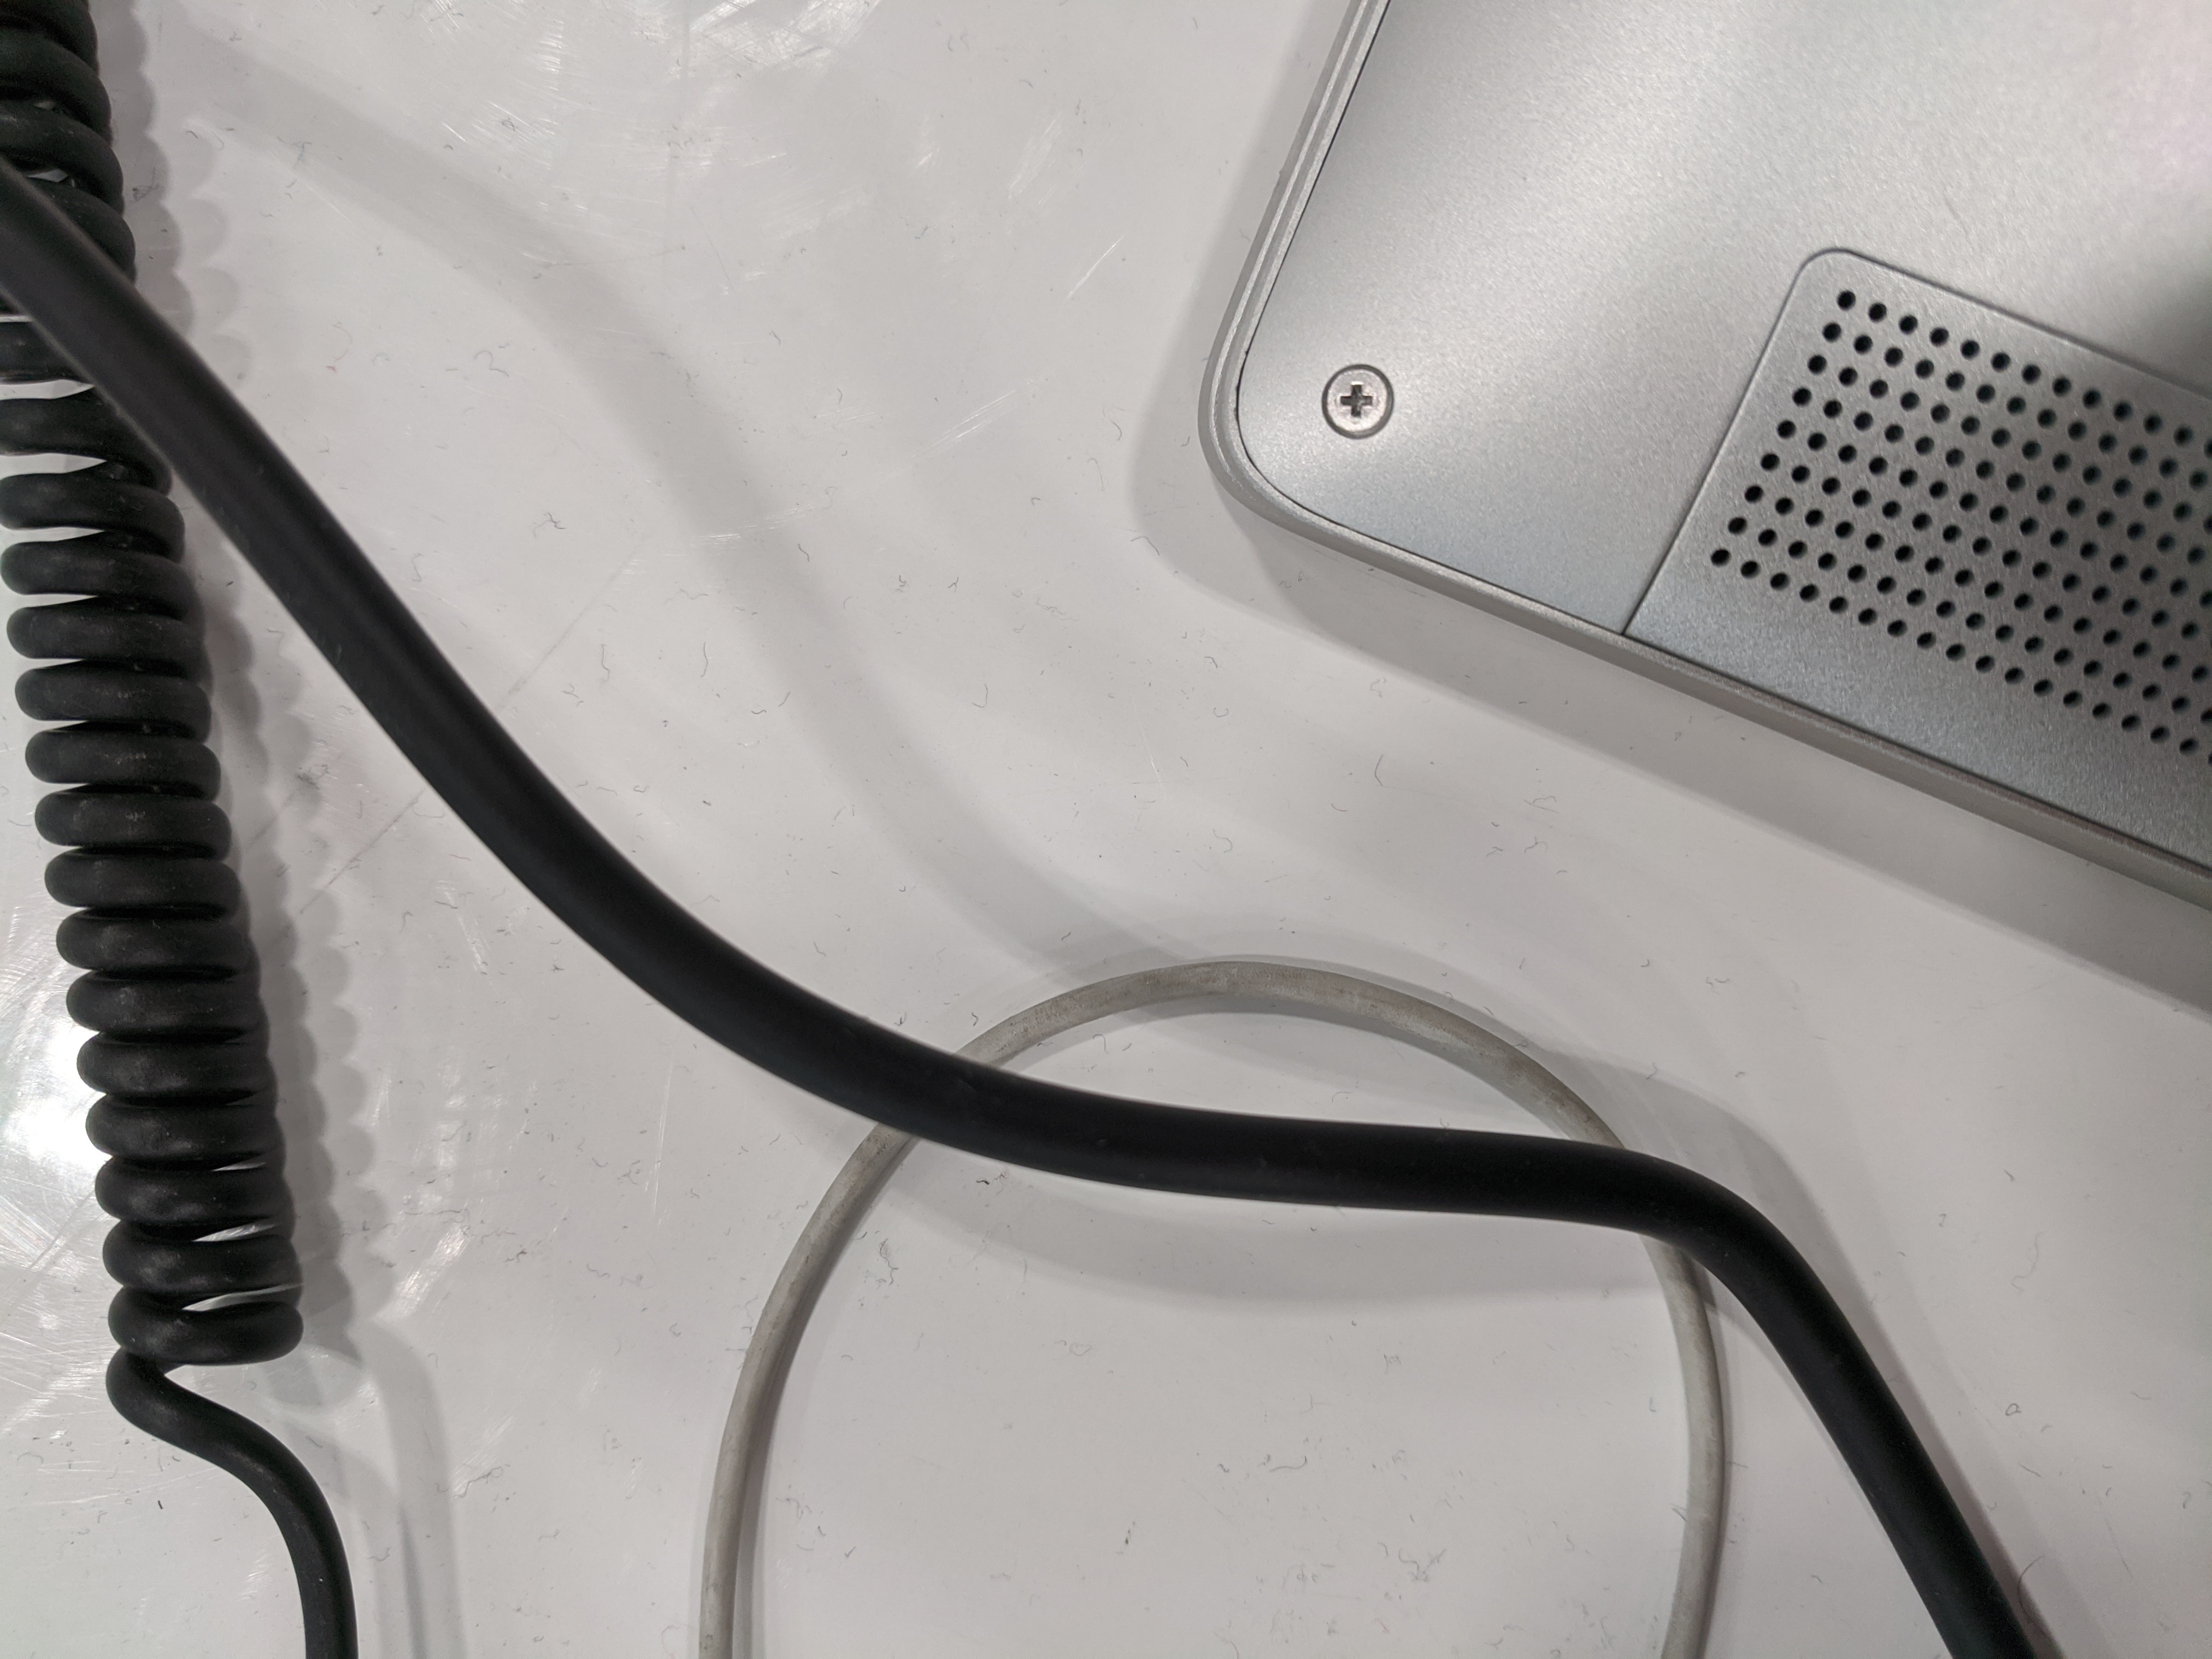cross_recessed_screw: (1318, 355, 1402, 434)
